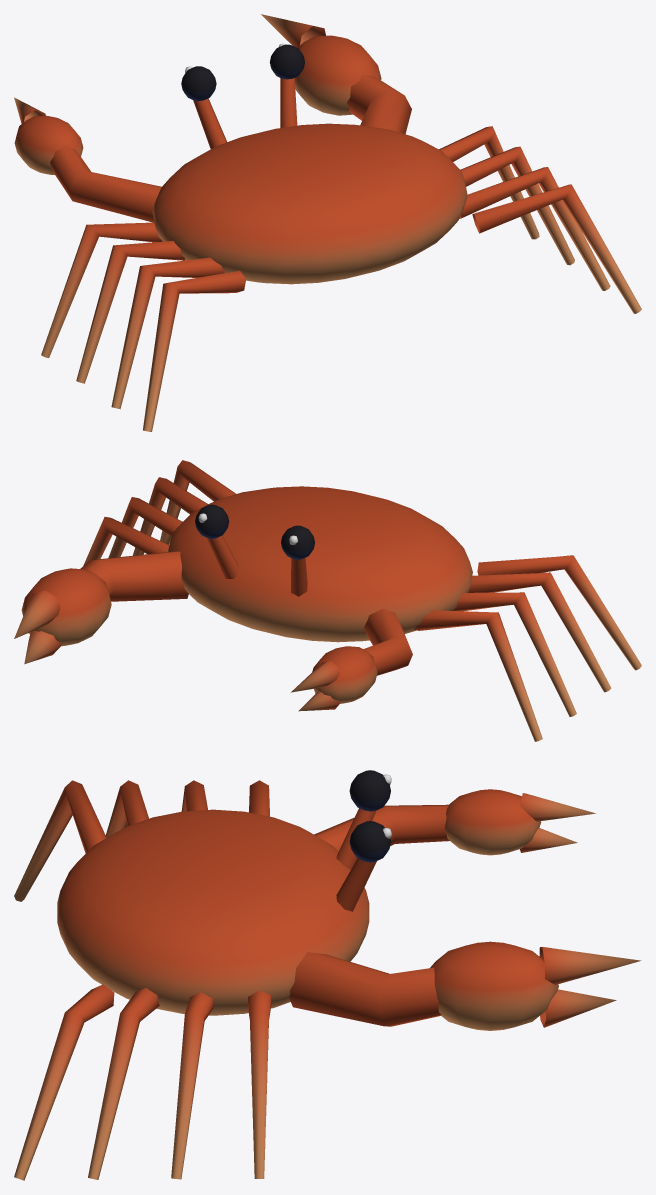
The model's file is Crab.fbx.
3 renders of one model, top to bottom at view 1: azimuth 30°, elevation 25°; view 2: azimuth 150°, elevation 25°; view 3: azimuth 270°, elevation 25°, orthographic. The views are drawn at different scales.
Parts seen in each view (by area): view 1: Crab; view 2: Crab; view 3: Crab.
Boxes of the visible parts, left/top/right/bottom form: Crab: left=14, top=14, right=641, bottom=431; Crab: left=14, top=460, right=641, bottom=741; Crab: left=14, top=770, right=641, bottom=1180.
Size of the model in its own units: 1.46 by 0.5808 by 1.36.
